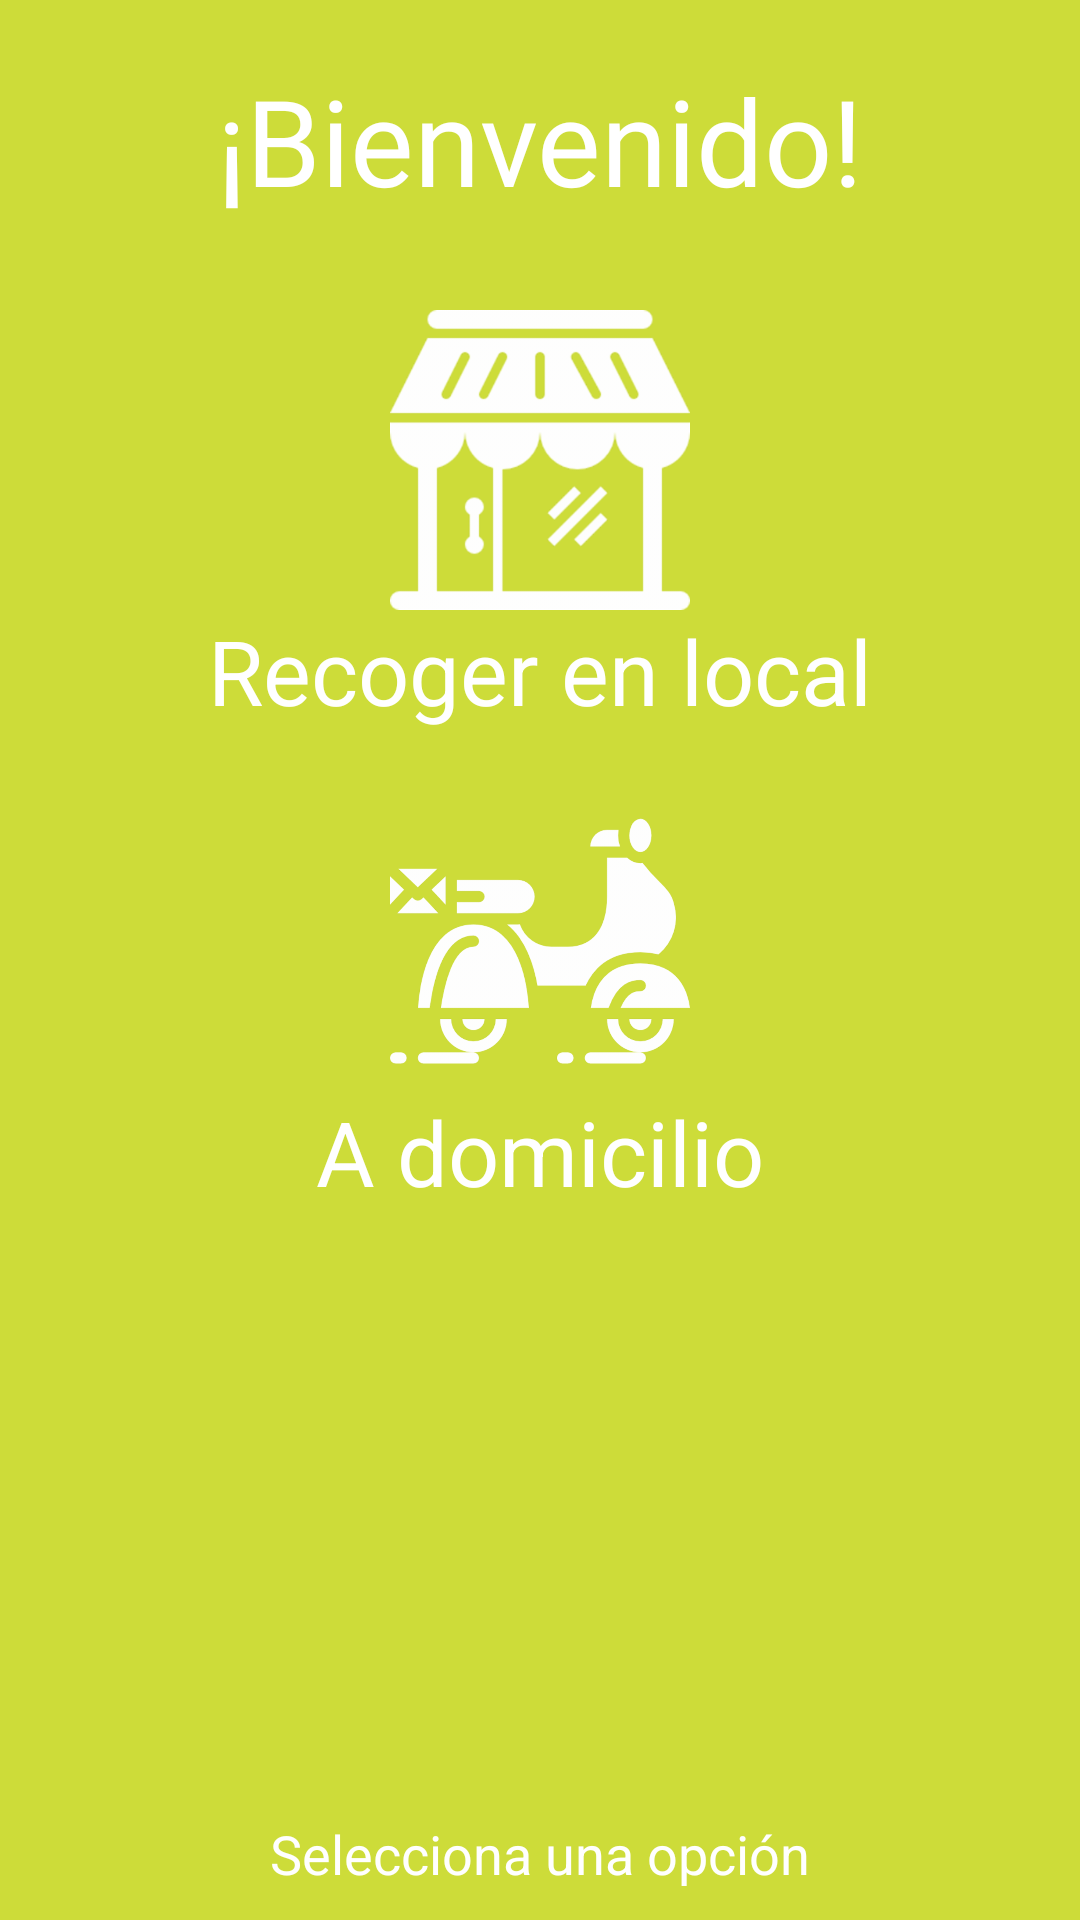

Icon bounding boxes for this 1080px×1920px phone screenshot, format region(x1, y1, x2, y2):
scooter: region(390, 818, 690, 1064)
store: region(390, 310, 690, 610)
